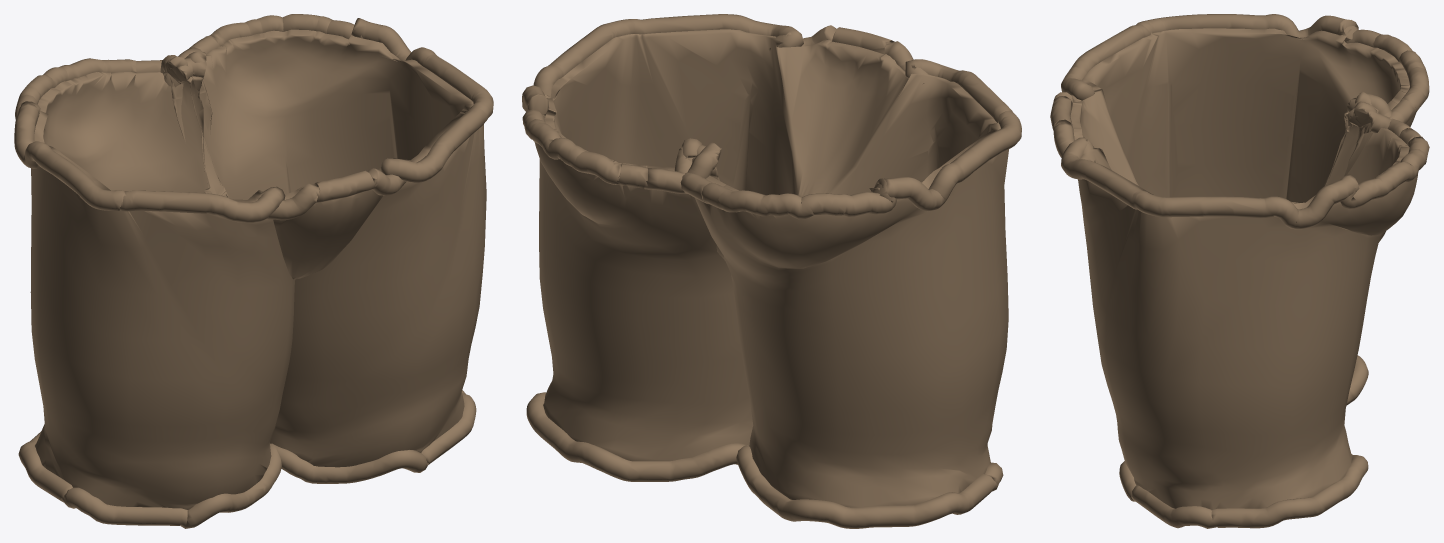
Rendered from 3HT-masculino.glb.
The picture shows the model from 3 angles, left to right: view 1: azimuth 30°, elevation 25°; view 2: azimuth 150°, elevation 25°; view 3: azimuth 270°, elevation 25°; orthographic projection. The views are drawn at different scales.
Parts seen in each view (by area): view 1: fitted-shell, bound-edge (×3); view 2: fitted-shell, bound-edge (×3); view 3: fitted-shell, bound-edge (×3).
Boxes of the visible parts, x1=… form: fitted-shell: x1=30, y1=29, x2=486, y2=509; bound-edge (×3): x1=14, y1=14, x2=493, y2=528; fitted-shell: x1=534, y1=29, x2=1008, y2=507; bound-edge (×3): x1=522, y1=14, x2=1021, y2=528; fitted-shell: x1=1070, y1=28, x2=1417, y2=509; bound-edge (×3): x1=1050, y1=14, x2=1429, y2=528.
Bounding box in the file's own units: 0.0303 × 0.0255 × 0.0248.
